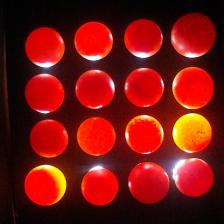fertile: (170, 12, 216, 59), (127, 162, 170, 205), (124, 66, 164, 108), (24, 73, 64, 114), (75, 70, 115, 110), (125, 19, 164, 58), (30, 119, 68, 158), (81, 168, 119, 206)
infertile: (24, 164, 66, 206), (173, 67, 214, 109), (172, 112, 212, 154), (25, 27, 65, 68), (173, 158, 214, 197), (125, 114, 164, 154), (74, 21, 113, 61), (77, 117, 116, 155)
